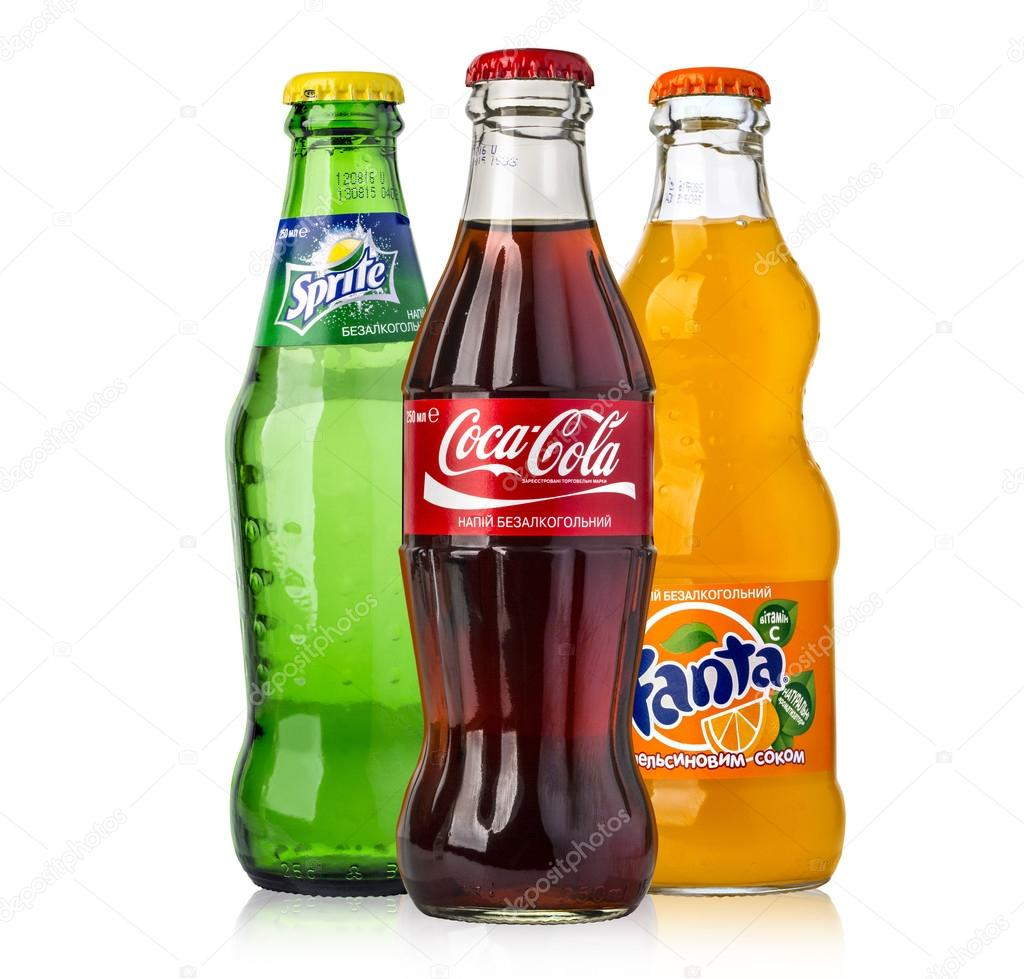Coca-Cola: (396, 85, 650, 923)
Fanta: (641, 88, 821, 897)
Sprite: (240, 97, 395, 902)
